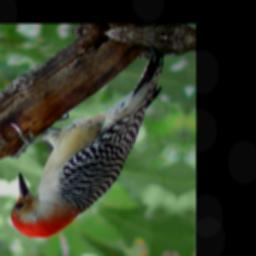Woodpecker: (0, 38, 171, 250)
